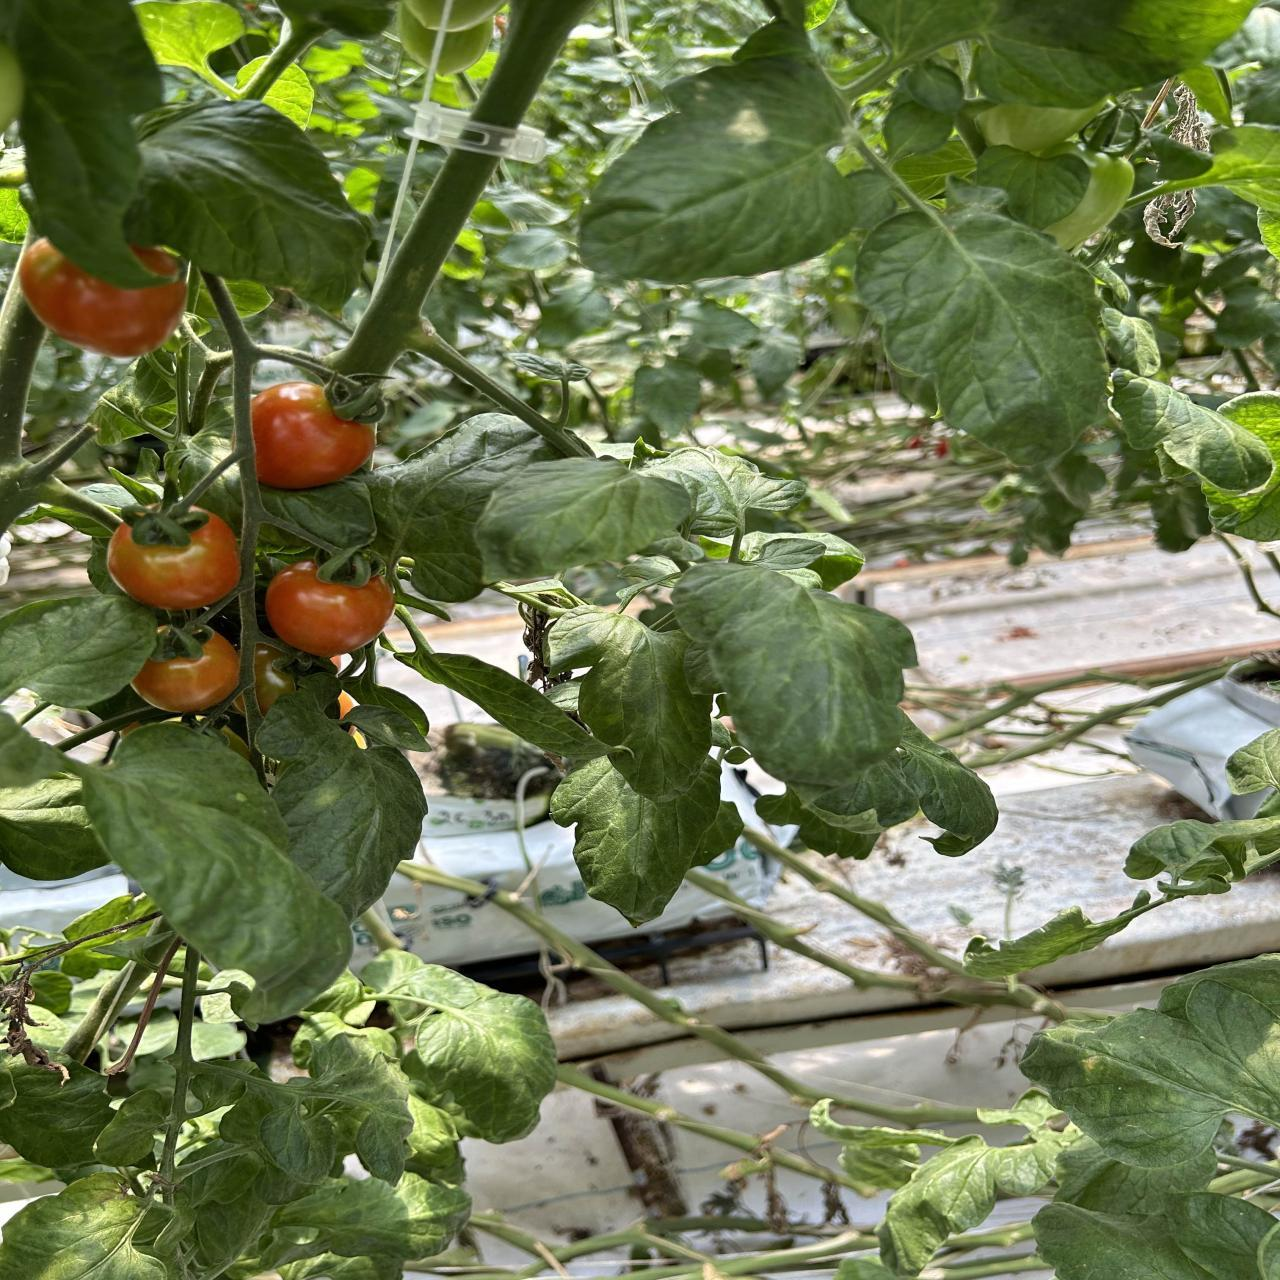Hoja: (80, 724, 350, 1017), (579, 22, 856, 282), (855, 209, 1108, 465), (673, 561, 915, 798), (1022, 955, 1280, 1167), (124, 97, 370, 309), (14, 0, 162, 286), (360, 952, 557, 1142), (367, 414, 553, 601), (551, 755, 742, 924), (550, 611, 712, 802), (475, 458, 692, 580)
Pedunculo: (333, 0, 588, 377)
Tomate: (16, 238, 186, 356), (252, 381, 375, 490), (107, 512, 239, 608), (265, 560, 394, 656), (131, 633, 239, 712), (132, 246, 179, 277)
